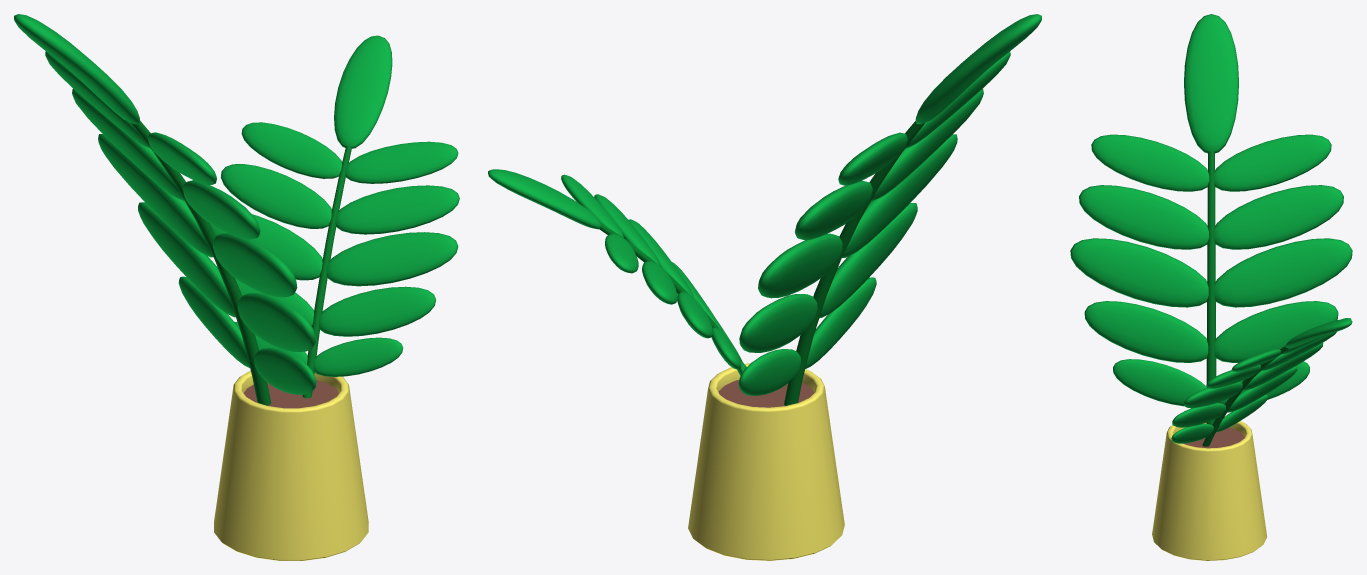
File: Town_16_Plant_1.glb
3 views of the same model, side by side, from view 1: azimuth 30°, elevation 25°; view 2: azimuth 150°, elevation 25°; view 3: azimuth 270°, elevation 25° (orthographic). The views are drawn at different scales.
Parts seen in each view (by area): view 1: Town_16_Plant_1; view 2: Town_16_Plant_1; view 3: Town_16_Plant_1.
Boxes of the visible parts, box(x1,y1,x2,y2) form: Town_16_Plant_1: box(14, 14, 459, 560); Town_16_Plant_1: box(488, 14, 1041, 560); Town_16_Plant_1: box(1070, 14, 1352, 560).
Size of the model in its own units: 1.59 by 1.91 by 1.15.
Materials: 1 (1 with a texture image).
